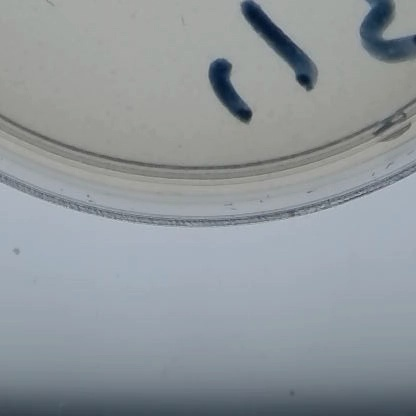worm: (176, 9, 189, 33), (35, 0, 59, 13)
